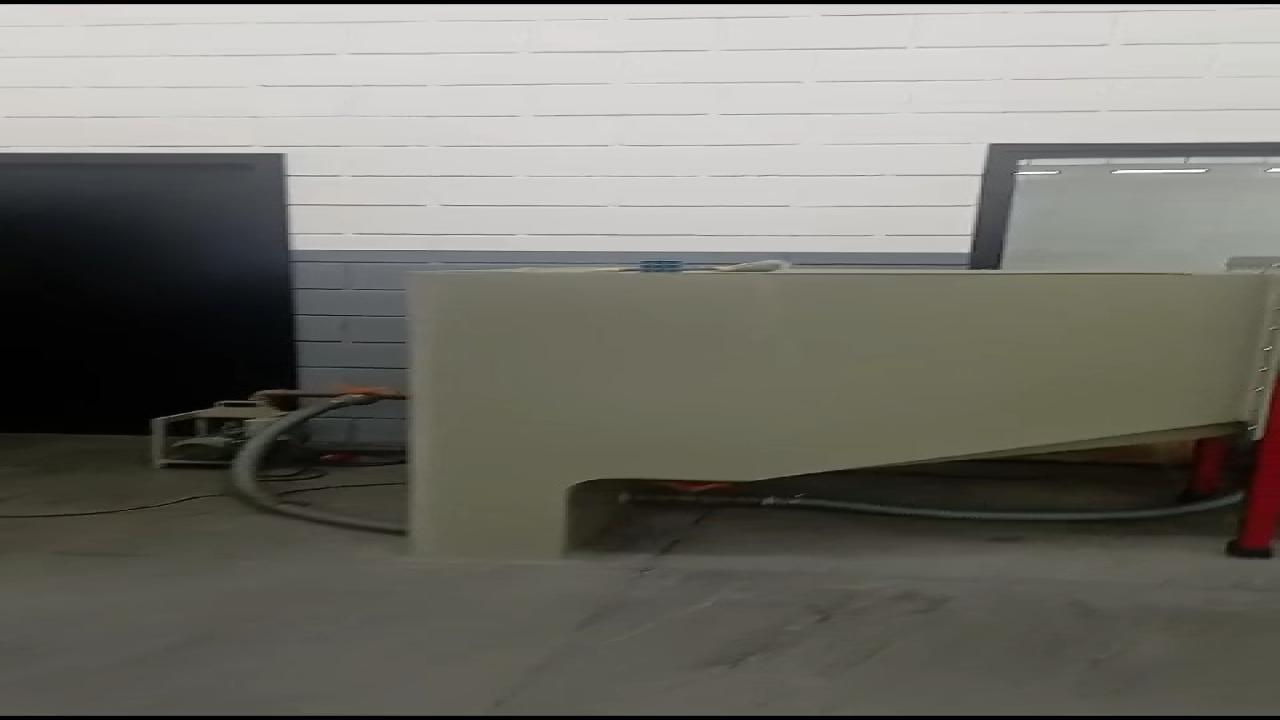Cube: (640, 257, 697, 274)
